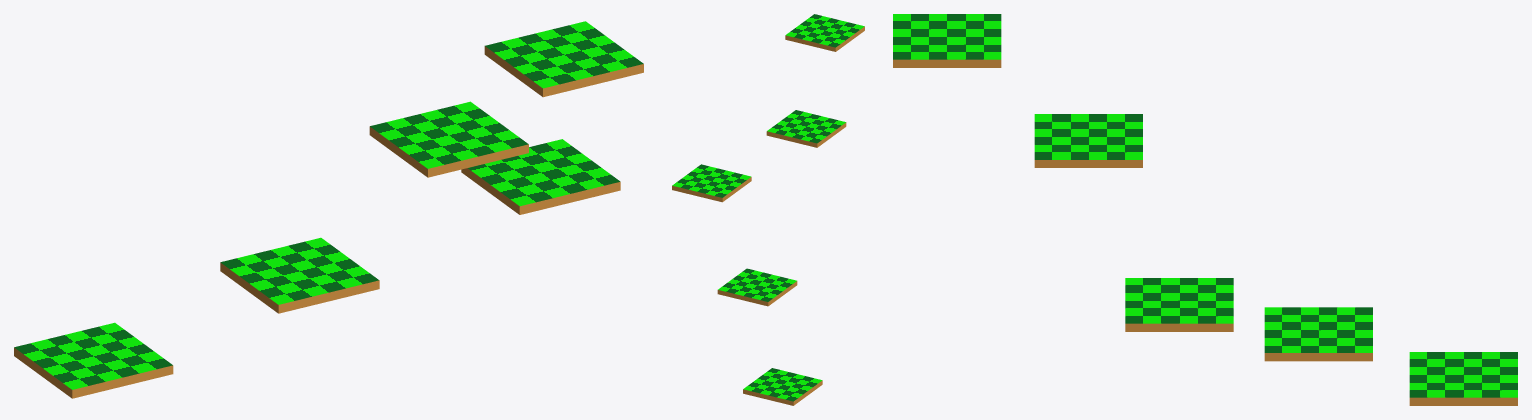
File: drop.glb
3 renders of one model, left to right at view 1: azimuth 30°, elevation 25°; view 2: azimuth 150°, elevation 25°; view 3: azimuth 270°, elevation 25°, orthographic. The views are drawn at different scales.
Visible parts, largest first — view 1: Cube, Cube.003, Cube.004, Cube.001, Cube.002; view 2: Cube.001, Cube.004, Cube, Cube.002, Cube.003; view 3: Cube.004, Cube, Cube.001, Cube.002, Cube.003.
Part boxes in pixels (x1,y1,x2,y2): Cube: (484,21,643,97); Cube.003: (14,322,173,398); Cube.004: (220,237,379,313); Cube.001: (369,101,528,177); Cube.002: (461,139,620,214); Cube.001: (766,110,846,147); Cube.004: (717,268,797,306); Cube: (785,14,864,51); Cube.002: (672,164,751,202); Cube.003: (743,368,822,405); Cube.004: (1264,307,1372,361); Cube: (893,14,1001,67); Cube.001: (1034,114,1142,167); Cube.002: (1125,278,1233,331); Cube.003: (1409,352,1517,405).
Size of the model in its own units: 47.03 by 52.97 by 69.15.
2 materials, 2 textured.
